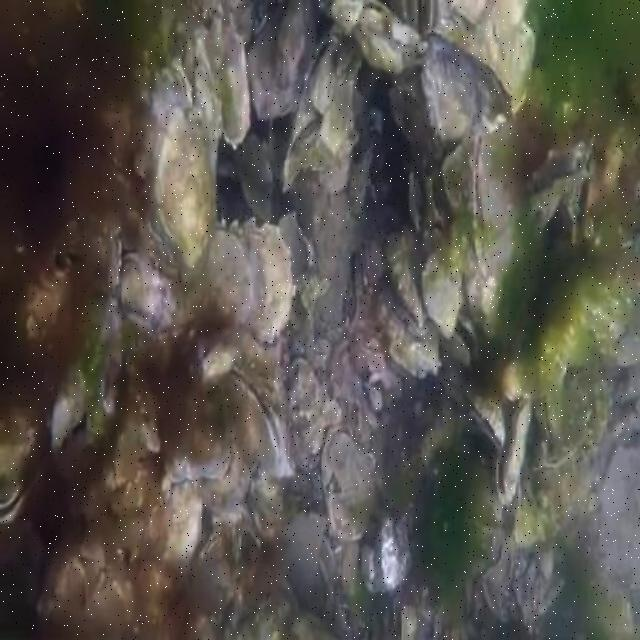Oyster-Closed: (156, 111, 217, 267), (247, 0, 318, 121), (321, 422, 378, 546), (197, 22, 251, 146), (243, 217, 294, 342), (194, 225, 254, 331), (50, 212, 123, 295), (422, 40, 477, 138), (377, 281, 437, 370), (353, 0, 420, 75), (119, 253, 176, 338), (385, 223, 427, 328), (473, 133, 514, 232), (365, 509, 410, 592), (288, 359, 325, 457), (423, 250, 462, 338), (164, 436, 237, 483), (163, 483, 201, 561), (306, 33, 339, 116), (172, 58, 193, 107), (200, 530, 223, 561)
Oyster-Open: (0, 403, 50, 524), (229, 364, 280, 471), (462, 375, 505, 455), (495, 405, 526, 510), (443, 314, 478, 365), (540, 392, 561, 441)
